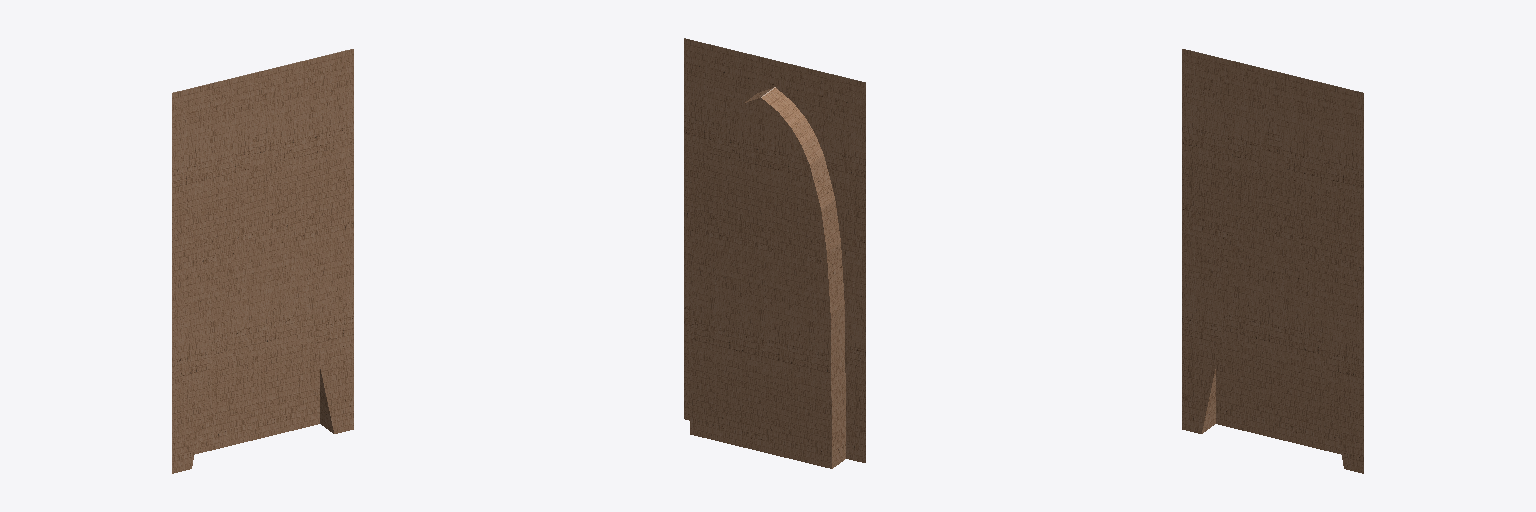
3 views of the same model, side by side, from view 1: azimuth 30°, elevation 25°; view 2: azimuth 150°, elevation 25°; view 3: azimuth 330°, elevation 25° (orthographic).
Size of the model in its own units: 1.5 by 3 by 0.202.
Materials: 1 (1 with a texture image).